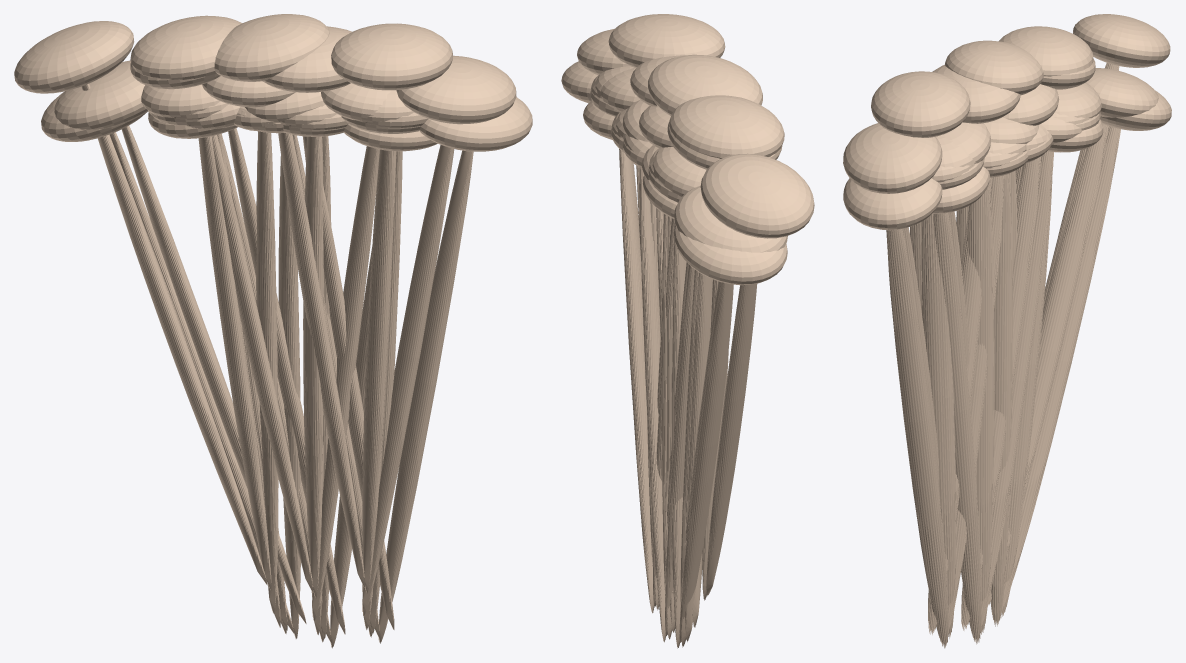
3 views of the same model, side by side, from view 1: azimuth 30°, elevation 25°; view 2: azimuth 150°, elevation 25°; view 3: azimuth 270°, elevation 25° (orthographic). The views are drawn at different scales.
Visible parts, largest first — view 1: 柱体, 柱体.007, 柱体.005, 柱体.014, 柱体.003, 柱体.012, 柱体.021, 球体.005, 柱体.025, 柱体.023, 柱体.016, 柱体.010 (+26 smaller); view 2: 球体.012, 柱体, 柱体.015, 球体.014, 柱体.012, 柱体.018, 球体.005, 球体.003, 球体.015, 柱体.024, 球体.010, 柱体.011 (+20 smaller); view 3: 柱体, 柱体.018, 柱体.010, 柱体.015, 柱体.024, 球体.005, 球体.007, 柱体.009, 柱体.019, 柱体.022, 柱体.008, 球体.012 (+25 smaller).
Part boxes in pixels (left/top/right/bottom): 柱体: left=378, top=150, right=473, bottom=643; 柱体.007: left=362, top=145, right=454, bottom=615; 柱体.005: left=362, top=149, right=395, bottom=593; 柱体.014: left=198, top=136, right=271, bottom=590; 柱体.003: left=278, top=133, right=364, bottom=587; 柱体.012: left=81, top=83, right=267, bottom=585; 柱体.021: left=212, top=135, right=313, bottom=593; 球体.005: left=331, top=23, right=452, bottom=90; 柱体.025: left=312, top=146, right=379, bottom=621; 柱体.023: left=303, top=136, right=323, bottom=598; 柱体.016: left=256, top=131, right=278, bottom=613; 柱体.010: left=121, top=125, right=306, bottom=623; 球体.012: left=700, top=153, right=814, bottom=238; 柱体: left=619, top=149, right=654, bottom=613; 柱体.015: left=679, top=282, right=733, bottom=642; 球体.014: left=669, top=95, right=784, bottom=158; 柱体.012: left=706, top=283, right=757, bottom=595; 柱体.018: left=639, top=167, right=666, bottom=642; 球体.005: left=608, top=14, right=725, bottom=67; 球体.003: left=648, top=54, right=762, bottom=115; 球体.015: left=674, top=225, right=787, bottom=285; 柱体.024: left=665, top=264, right=694, bottom=636; 球体.010: left=674, top=186, right=787, bottom=252; 柱体.011: left=685, top=272, right=712, bottom=641; 柱体: left=886, top=229, right=948, bottom=648; 柱体.018: left=933, top=213, right=981, bottom=644; 柱体.010: left=987, top=124, right=1108, bottom=606; 柱体.015: left=1001, top=126, right=1120, bottom=610; 柱体.024: left=981, top=151, right=1053, bottom=627; 球体.005: left=871, top=71, right=970, bottom=137; 球体.007: left=843, top=123, right=942, bottom=193; 柱体.009: left=990, top=173, right=1012, bottom=626; 柱体.019: left=961, top=156, right=1041, bottom=630; 柱体.022: left=981, top=184, right=994, bottom=634; 柱体.008: left=921, top=213, right=948, bottom=597; 球体.012: left=1073, top=14, right=1170, bottom=67.
Size of the model in its own units: 682 by 1080 by 560.
